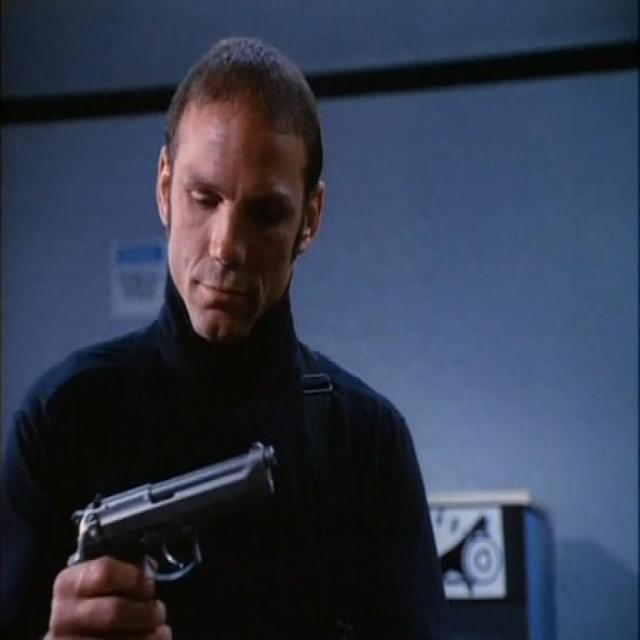gun-knife-thesis - v11 Yolov5 augmented: (63, 406, 284, 630)
